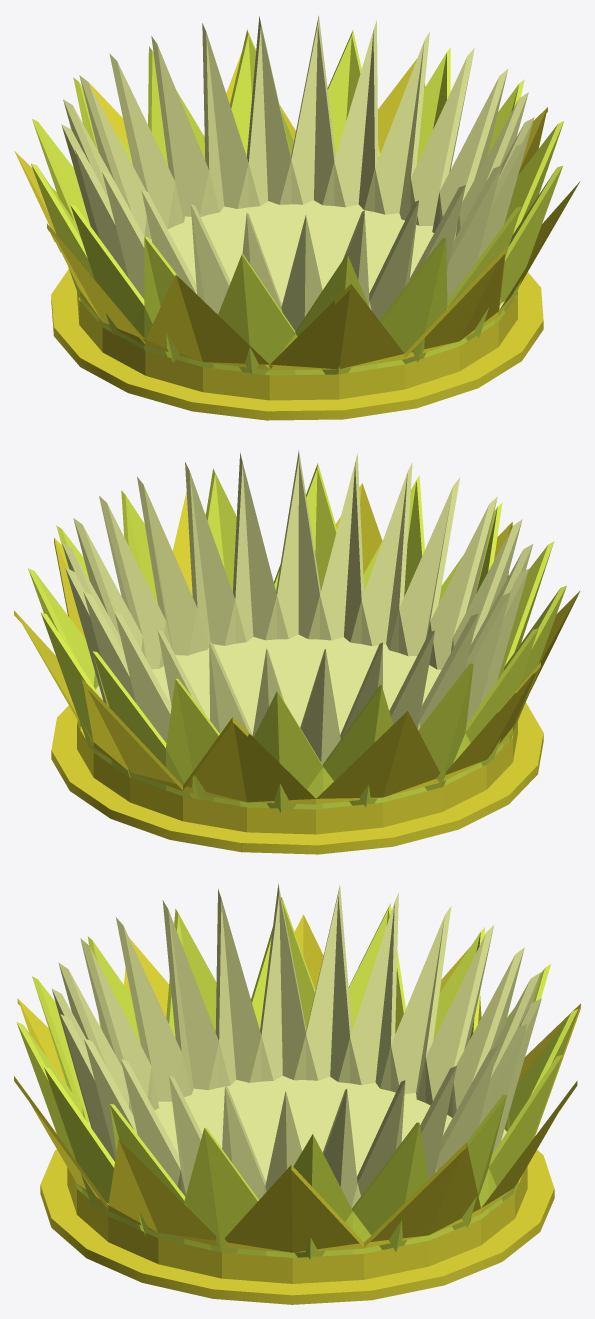
The model's file is portal_abrir_000046.obj.
3 views of the same model, one above another, from view 1: azimuth 30°, elevation 25°; view 2: azimuth 150°, elevation 25°; view 3: azimuth 270°, elevation 25° (orthographic). The views are drawn at different scales.
Parts seen in each view (by area): view 1: Cylinder.001, pCylinder1, Cylinder; view 2: Cylinder.001, pCylinder1, Cylinder; view 3: Cylinder.001, pCylinder1, Cylinder.
Boxes of the visible parts, left/top/right/bottom form: Cylinder.001: left=61, top=15, right=534, bottom=331; pCylinder1: left=14, top=52, right=579, bottom=420; Cylinder: left=31, top=29, right=563, bottom=375; Cylinder.001: left=62, top=450, right=532, bottom=764; pCylinder1: left=14, top=483, right=580, bottom=854; Cylinder: left=28, top=463, right=566, bottom=812; Cylinder.001: left=51, top=883, right=541, bottom=1208; pCylinder1: left=14, top=914, right=580, bottom=1304; Cylinder: left=16, top=897, right=578, bottom=1259.
Bounding box in the file's own units: 7.33 × 2.86 × 7.02.
4 materials, 4 textured.
